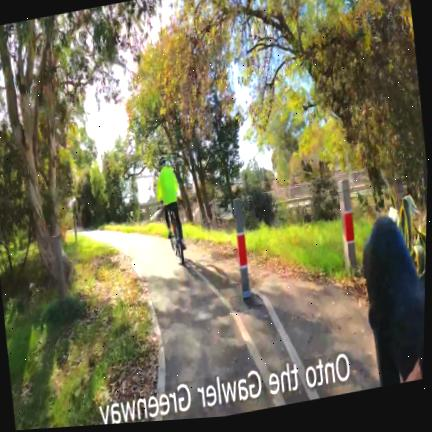Bike_Lane: (81, 230, 379, 421)
